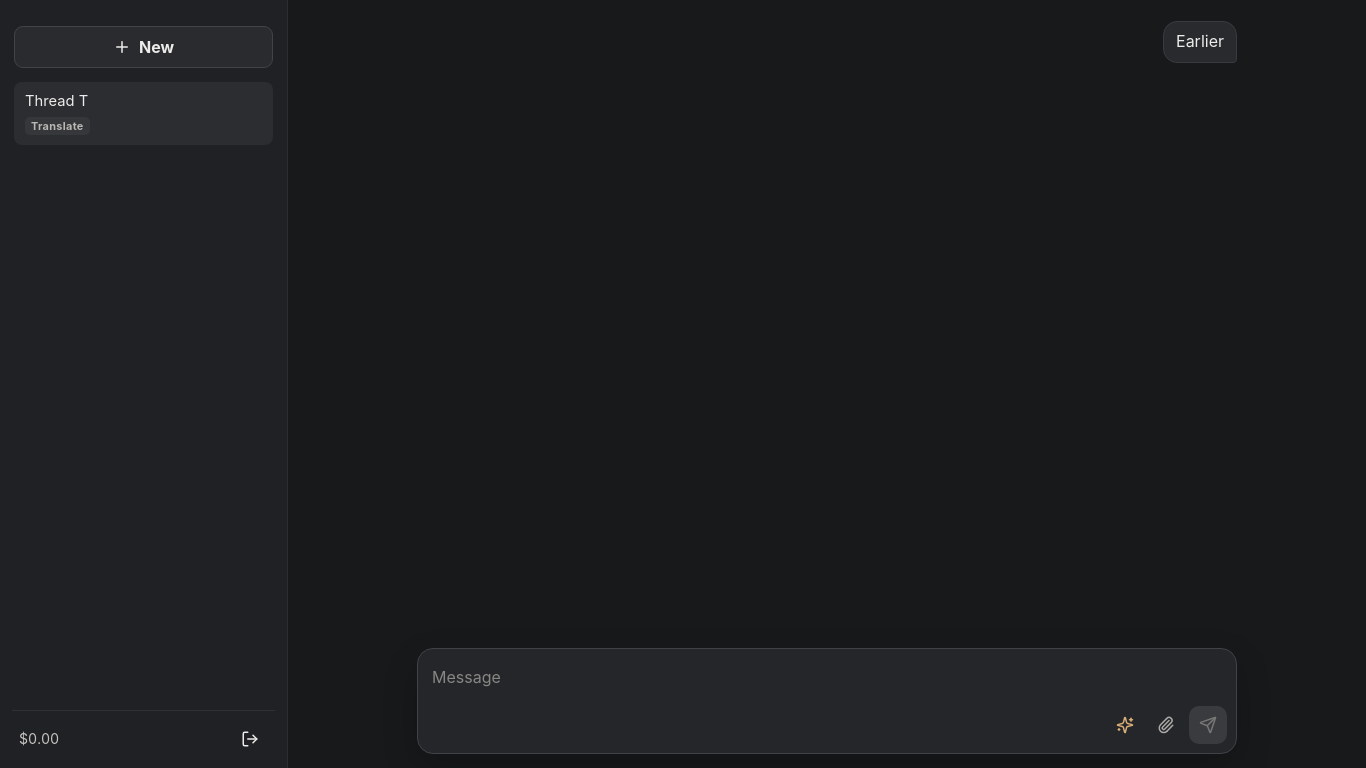
Test: L-1 / F-2, F-9: responses cannot land on the wrong conversation › reports an accepted message as sent when only the refresh afterwards fails
Type "Please translate this" into the text box labelled "Message". click: {"x": 764, "y": 701}
box: [430,658,1099,744]
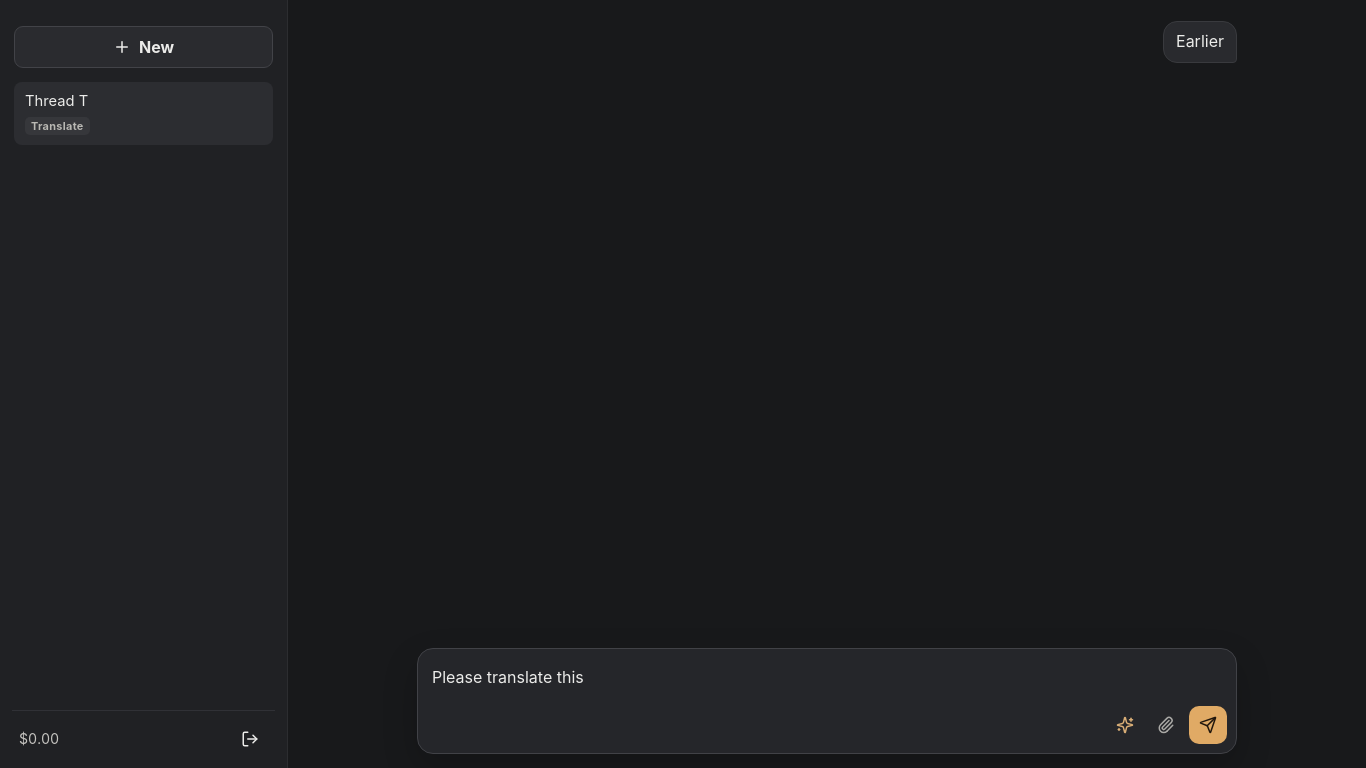
Click the button named "Send message". click: {"x": 1208, "y": 725}
box: [1189,706,1227,744]
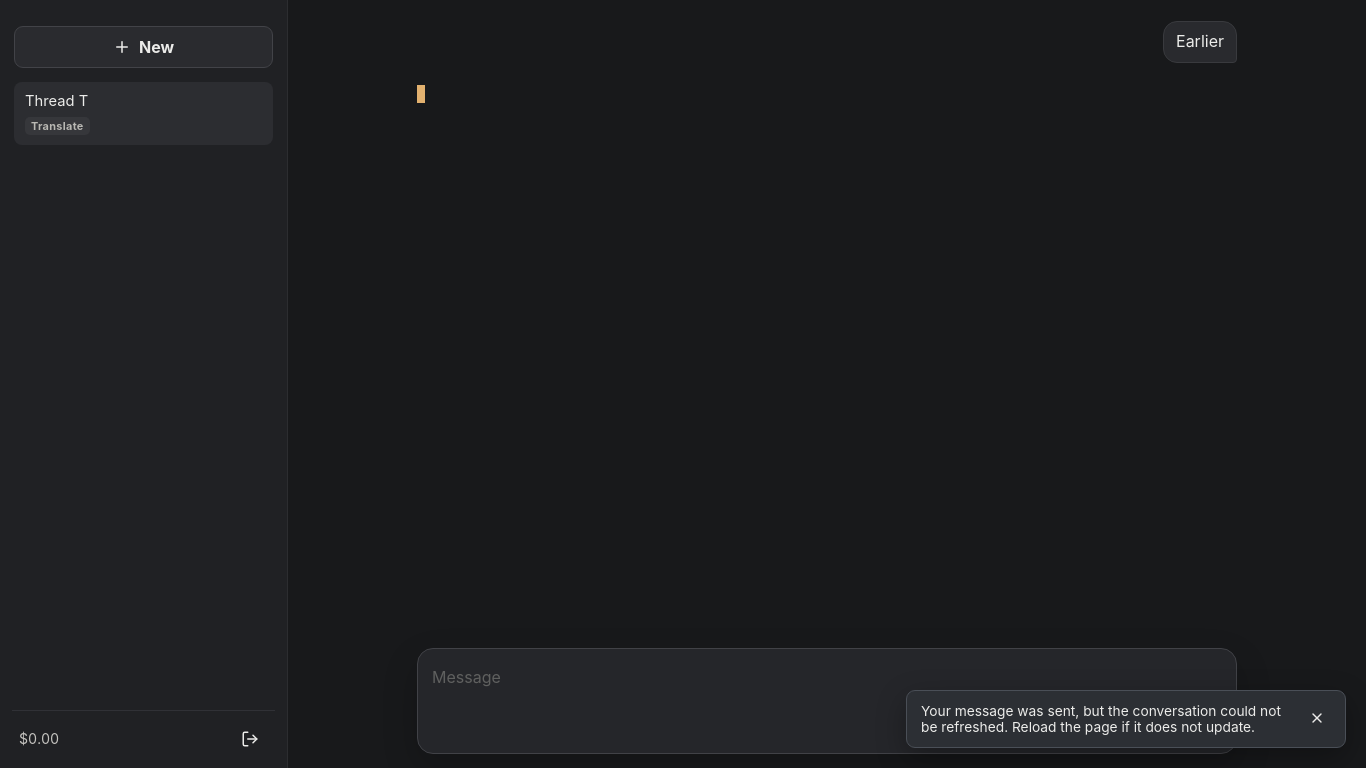
Check: the text "Your message was sent, but the conversation could not be refreshed" is shown, box [921,703,1281,735]
Check: the text box labelled "Message" is empty, box [430,658,1099,744]
